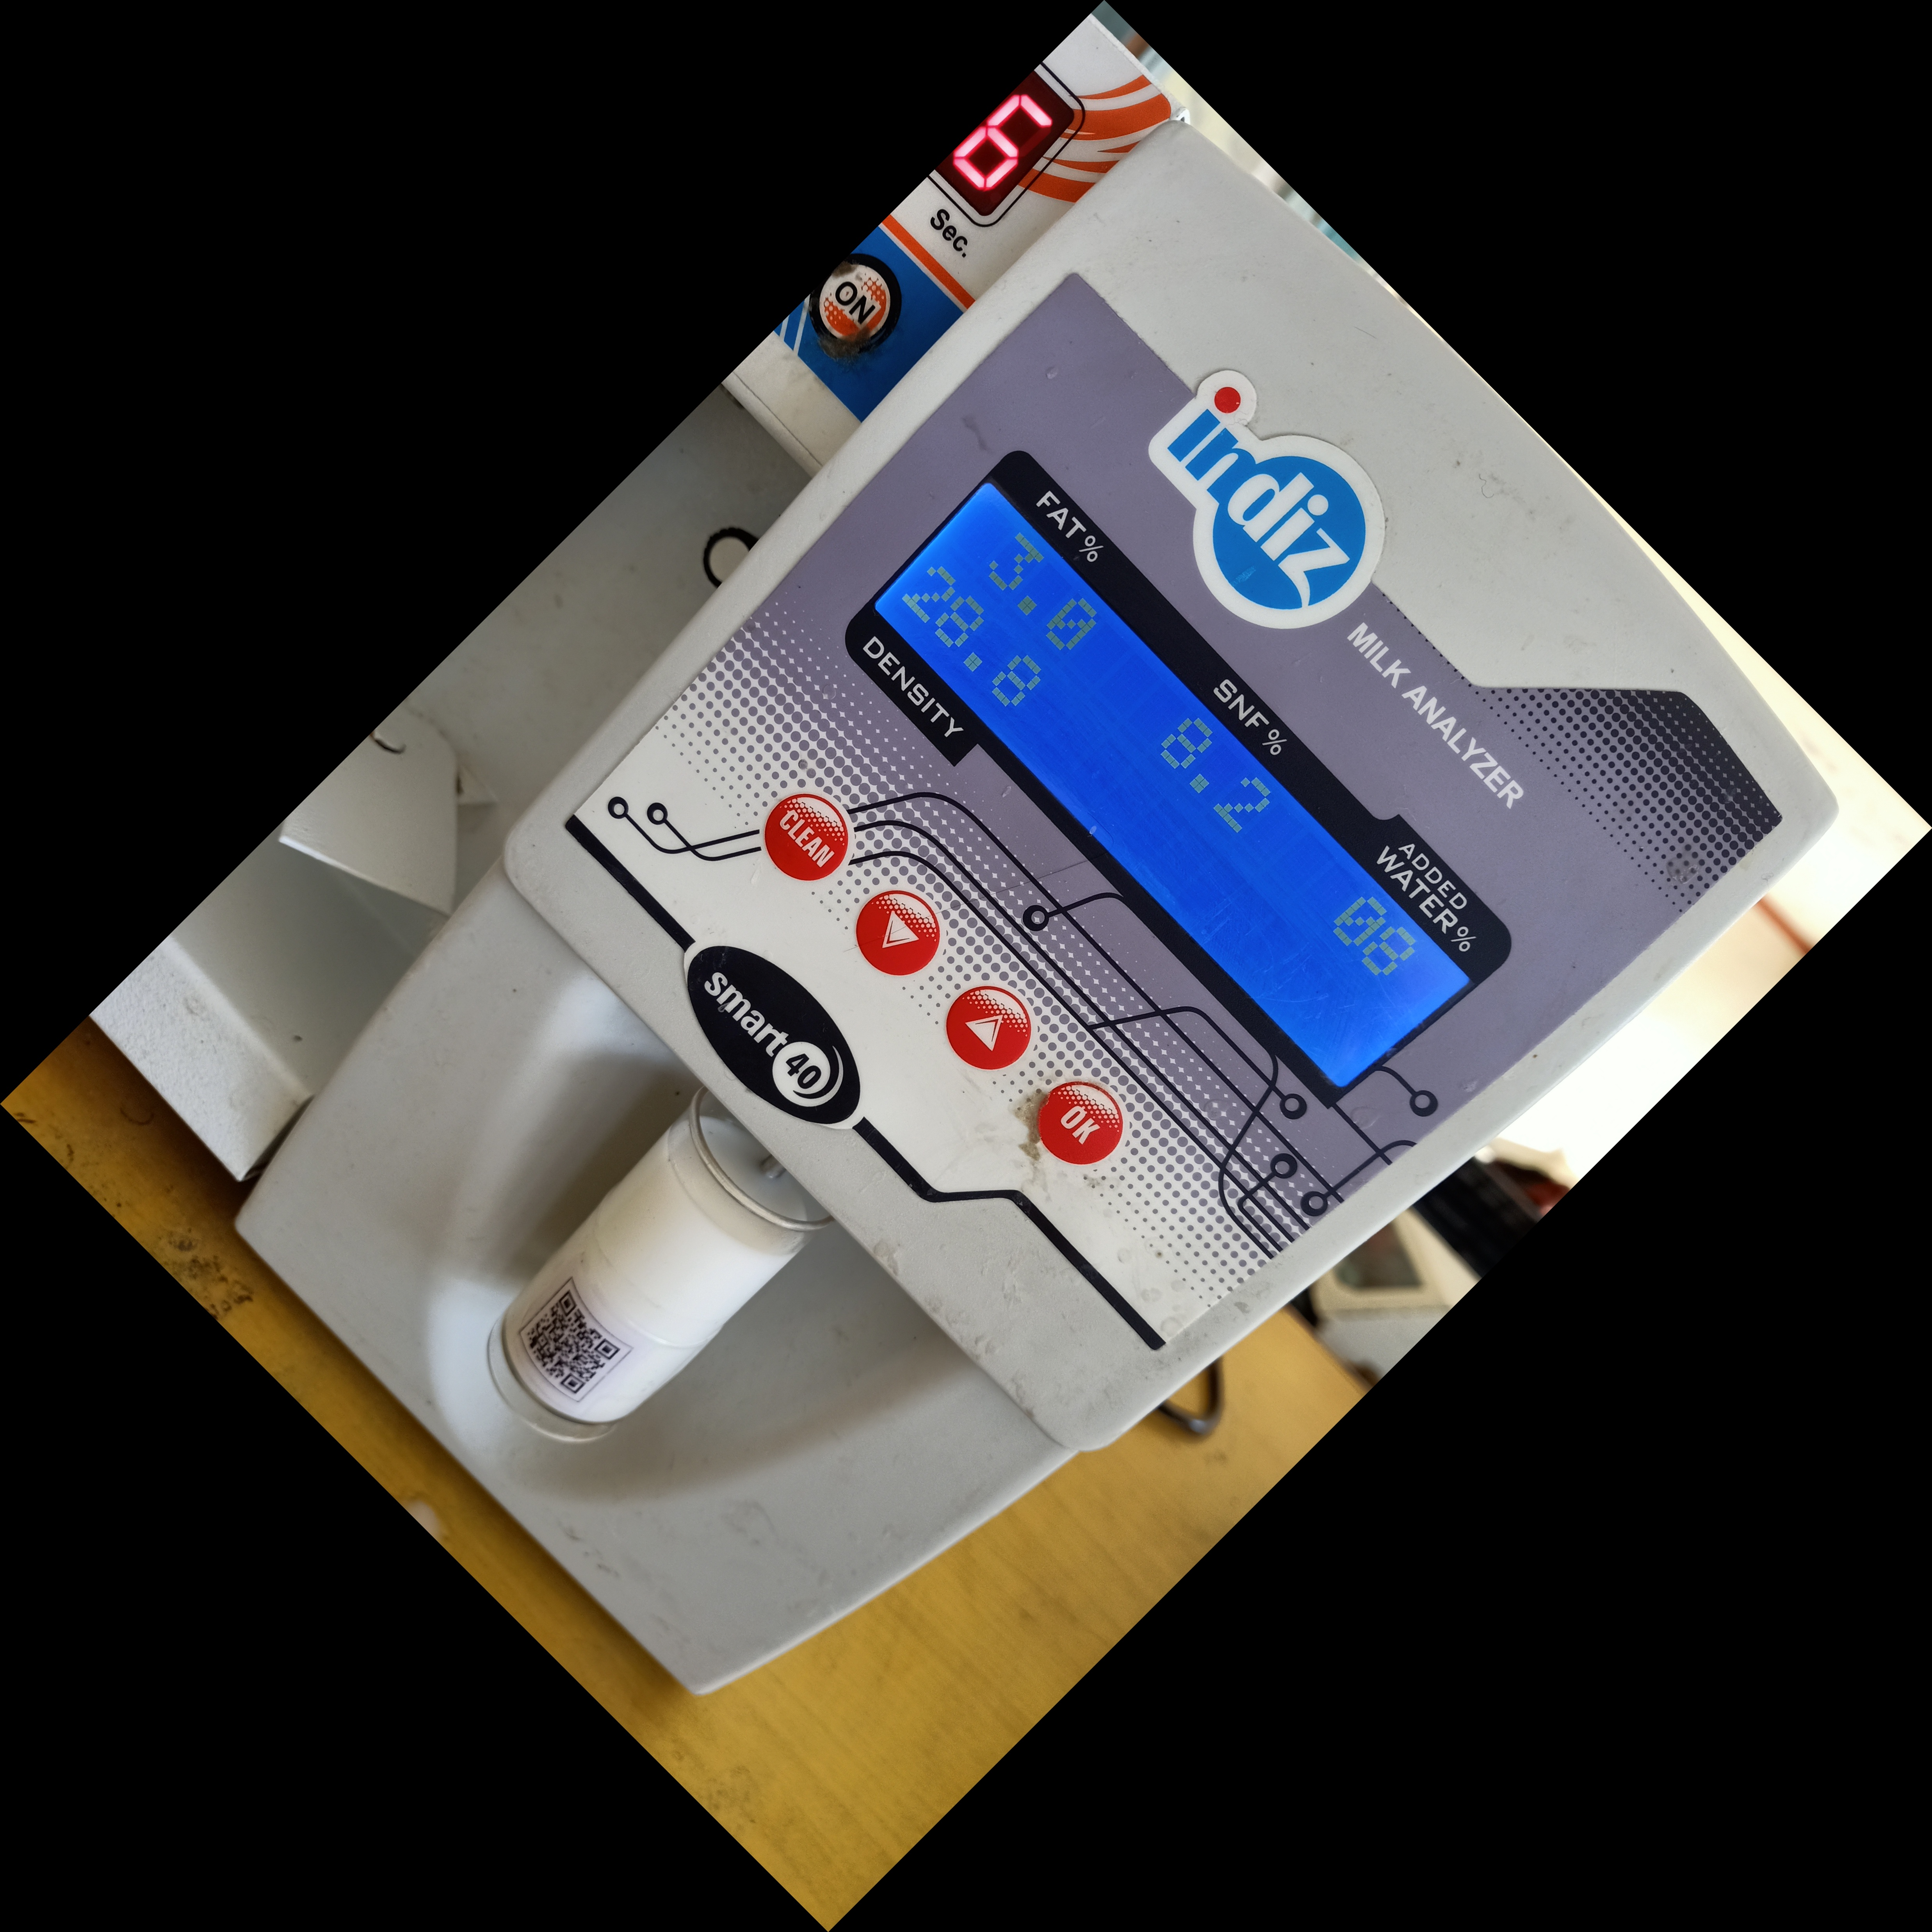lcd: (835, 437, 1523, 1100)
qr: (499, 1260, 642, 1410)
